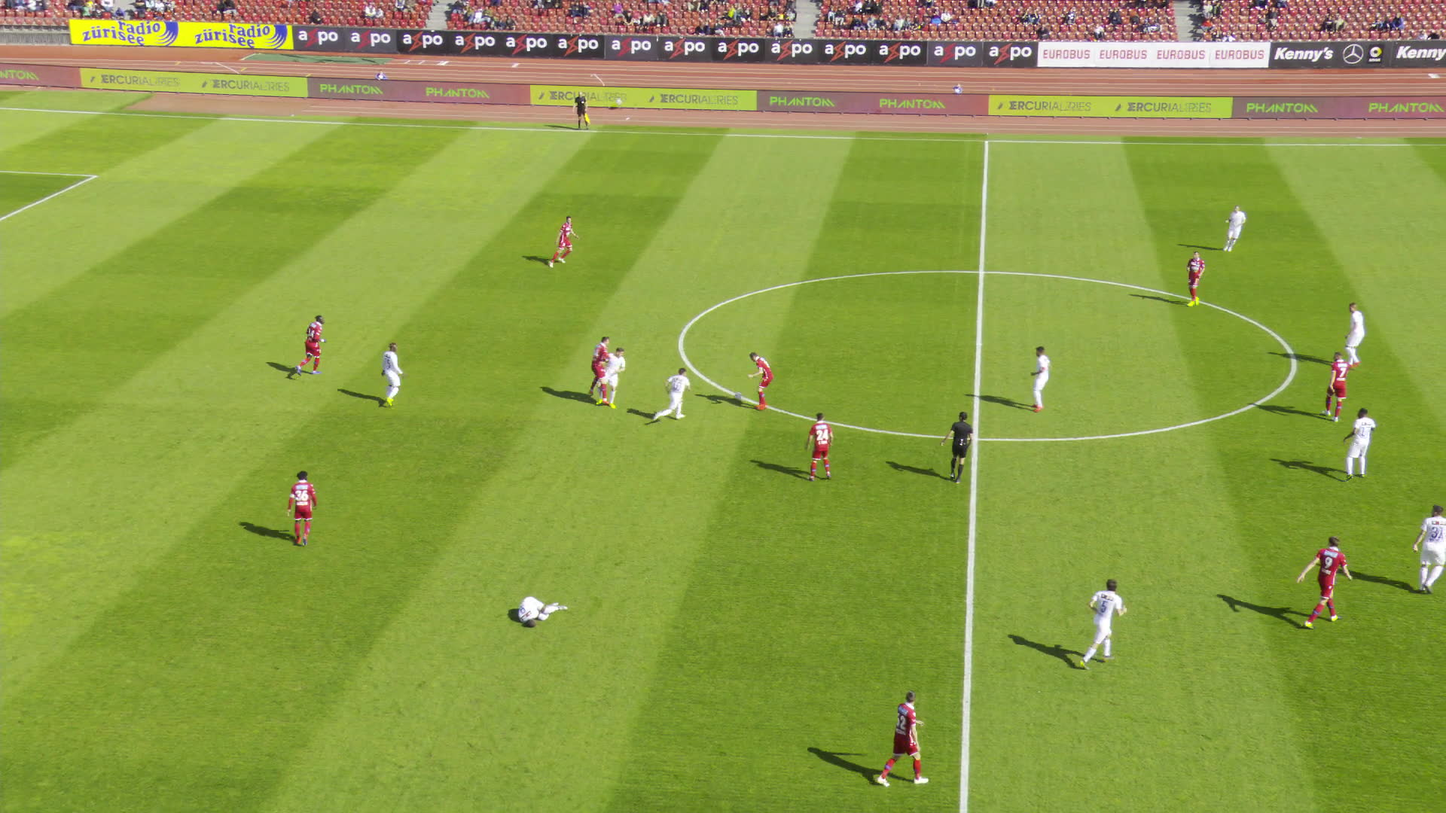ball: (735, 395, 743, 403)
player: (1296, 534, 1350, 628), (879, 688, 929, 785), (1075, 579, 1123, 668), (1411, 505, 1445, 595), (1342, 406, 1376, 481), (290, 470, 319, 546), (746, 350, 779, 411), (1322, 351, 1350, 422), (296, 315, 327, 375), (807, 412, 834, 480), (380, 343, 407, 407), (654, 368, 685, 423), (590, 336, 613, 406), (601, 347, 627, 408), (520, 595, 569, 626), (1345, 301, 1368, 367), (1031, 347, 1053, 413), (551, 216, 580, 266), (1182, 251, 1203, 306), (1226, 202, 1247, 251)
referee: (939, 412, 973, 484), (574, 90, 592, 129)
